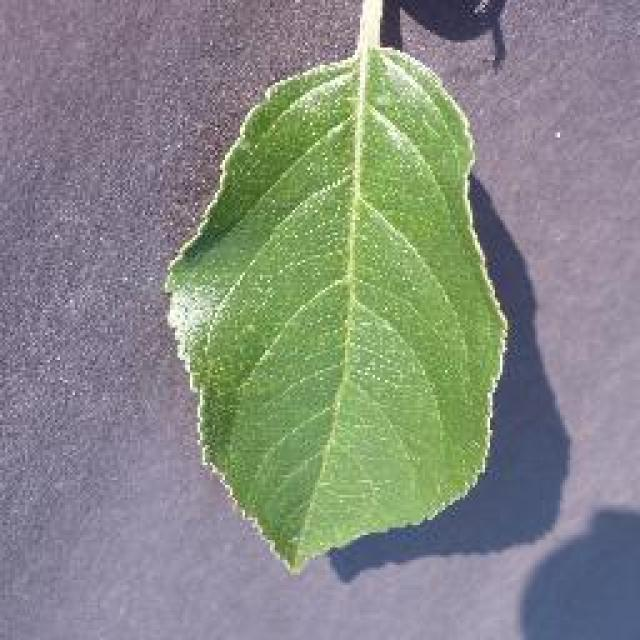apple healthy: (160, 7, 512, 575)
